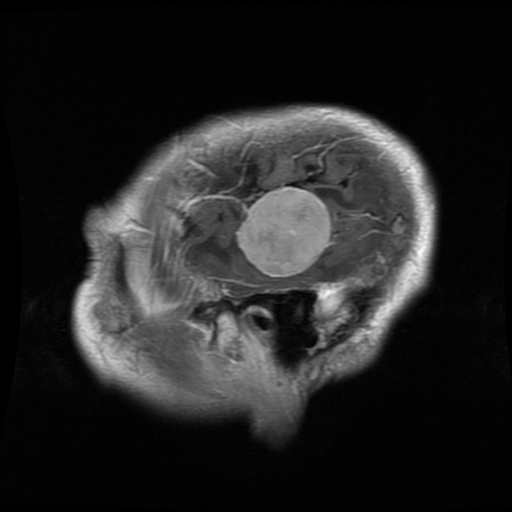meningioma: (236, 187, 332, 276)
